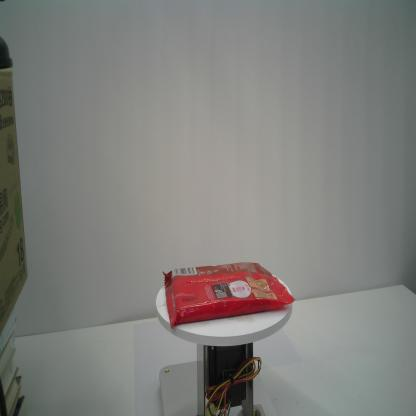Dessert: (162, 262, 296, 331)
